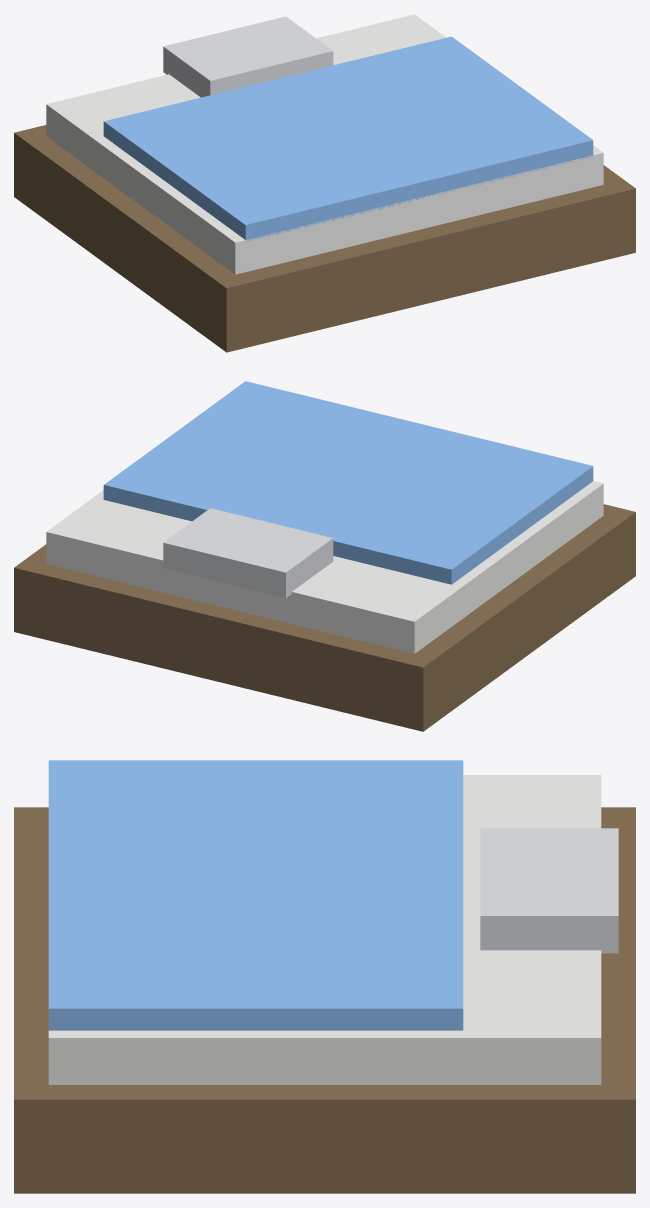
Rendered from bed_double_parts.gltf.
3 renders of one model, top to bottom at view 1: azimuth 30°, elevation 25°; view 2: azimuth 150°, elevation 25°; view 3: azimuth 270°, elevation 25°, orthographic. The views are drawn at different scales.
Parts seen in each view (by area): view 1: quilt, bed_frame, mattress, pillow; view 2: quilt, bed_frame, mattress, pillow; view 3: quilt, bed_frame, mattress, pillow.
Part boxes in pixels (left/top/right/bottom): quilt: left=103, top=36, right=593, bottom=241; bed_frame: left=14, top=125, right=635, bottom=352; mattress: left=46, top=14, right=603, bottom=274; pillow: left=163, top=16, right=333, bottom=97; quilt: left=103, top=381, right=593, bottom=584; bed_frame: left=14, top=504, right=635, bottom=731; mattress: left=46, top=481, right=603, bottom=653; pillow: left=163, top=508, right=333, bottom=598; quilt: left=48, top=760, right=463, bottom=1030; bed_frame: left=14, top=807, right=635, bottom=1193; mattress: left=48, top=775, right=601, bottom=1084; pillow: left=480, top=828, right=618, bottom=953.
Bounding box in the file's own units: 2 × 0.56 × 1.8.
